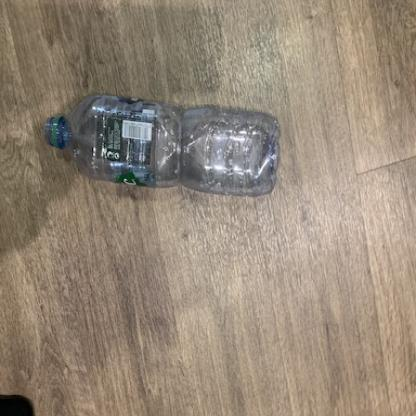trash: (40, 92, 282, 199)
